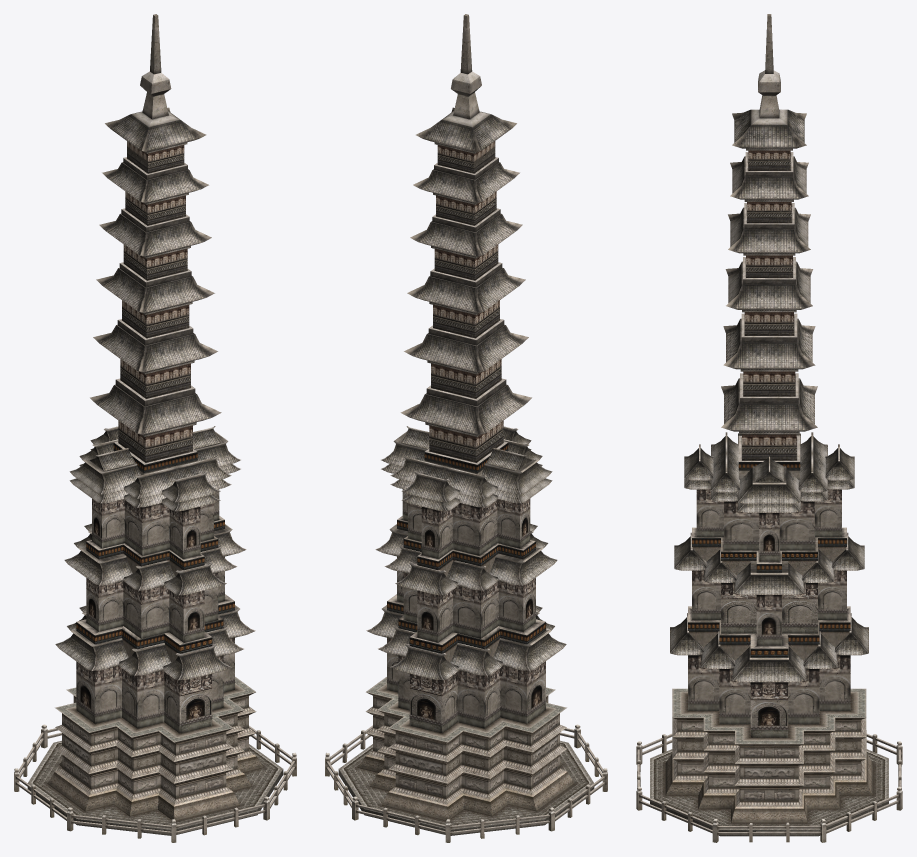
File: milgyo_tower01.glb
3 views of the same model, side by side, from view 1: azimuth 30°, elevation 25°; view 2: azimuth 150°, elevation 25°; view 3: azimuth 270°, elevation 25° (orthographic).
Visible parts, largest first — view 1: milgyo_tower01; view 2: milgyo_tower01; view 3: milgyo_tower01.
Part boxes in pixels (left/top/right/bottom): milgyo_tower01: left=14, top=14, right=296, bottom=842; milgyo_tower01: left=325, top=14, right=607, bottom=842; milgyo_tower01: left=636, top=14, right=902, bottom=842.
Bounding box in the file's own units: 15.25 × 48.79 × 15.25.
Materials: 5 (5 with a texture image).
